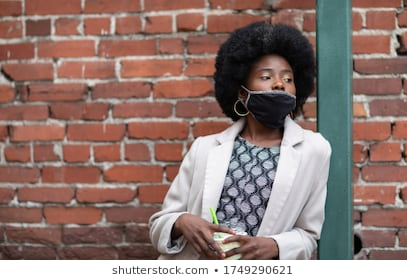mask_weared_incorrect: (254, 69, 295, 116)
